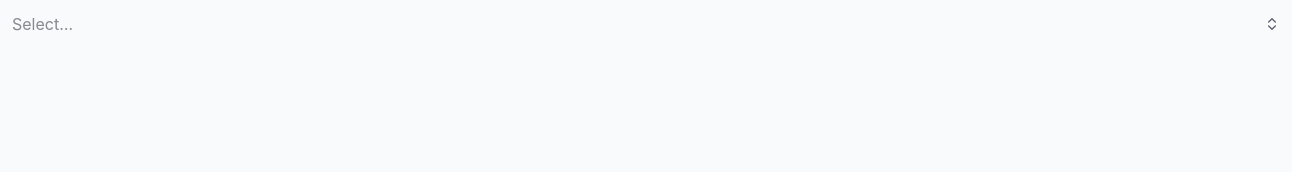
Test case: Combobox › shows the empty message for no matches
The image size is (1292, 172).
Type "xyz" into the dropdown. click: (136, 24)
box: x1=12 y1=12 x2=260 y2=36
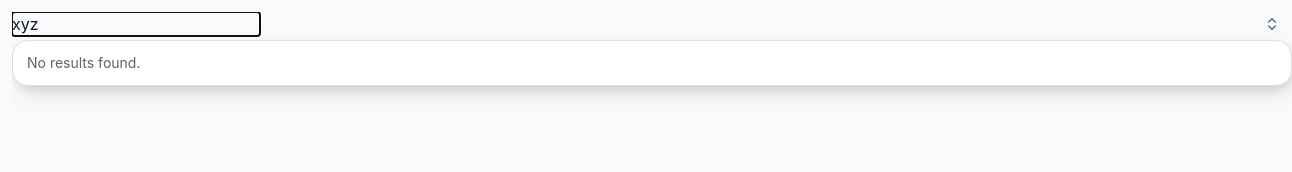
Check: the list item "No results found." is shown, box x1=27 y1=54 x2=140 y2=71
